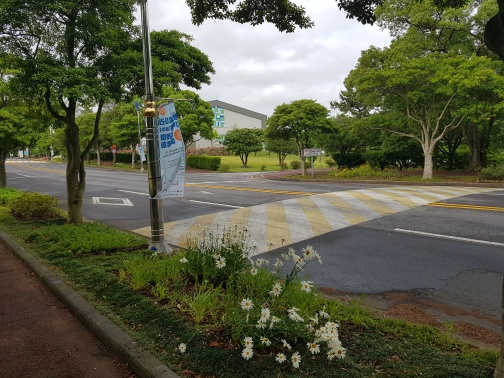Gym: (190, 98, 269, 158), (211, 105, 226, 129)
